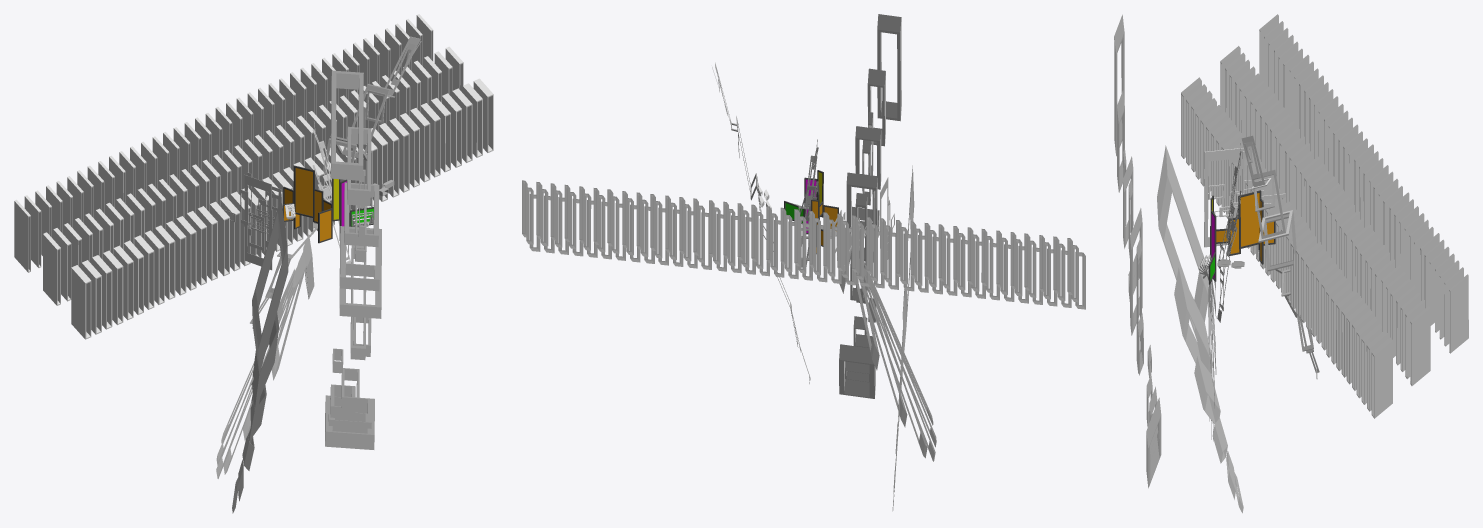
3 views of the same model, side by side, from view 1: azimuth 30°, elevation 25°; view 2: azimuth 150°, elevation 25°; view 3: azimuth 270°, elevation 25° (orthographic). The views are drawn at different scales.
Parts seen in each view (by area): view 1: A_08, A_03, A_06, A_04, A_07, A_09, Plane_07, A_02; view 2: A_08, A_03, A_04, A_06, A_09, A_07, A_02; view 3: A_08, A_06, A_03, A_07, A_09, A_02, Plane_07, A_04.
Boxes of the visible parts, left/top/right/bottom form: A_08: left=14, top=14, right=493, bottom=339; A_03: left=325, top=70, right=381, bottom=449; A_06: left=232, top=198, right=288, bottom=513; A_04: left=216, top=234, right=314, bottom=478; A_07: left=250, top=36, right=421, bottom=328; A_09: left=223, top=172, right=285, bottom=270; Plane_07: left=295, top=168, right=312, bottom=216; A_02: left=312, top=121, right=351, bottom=263; A_08: left=522, top=180, right=1085, bottom=309; A_03: left=839, top=14, right=901, bottom=398; A_04: left=839, top=232, right=936, bottom=461; A_06: left=892, top=165, right=914, bottom=511; A_09: left=834, top=177, right=894, bottom=273; A_07: left=712, top=62, right=810, bottom=383; A_02: left=798, top=139, right=818, bottom=266; A_08: left=1181, top=14, right=1468, bottom=418; A_06: left=1157, top=145, right=1243, bottom=513; A_03: left=1114, top=14, right=1161, bottom=488; A_07: left=1241, top=135, right=1319, bottom=379; A_09: left=1204, top=148, right=1285, bottom=259; A_02: left=1217, top=143, right=1241, bottom=322; Plane_07: left=1240, top=193, right=1259, bottom=246; A_04: left=1208, top=280, right=1216, bottom=441.
Size of the model in its own units: 278 by 240 by 147.
